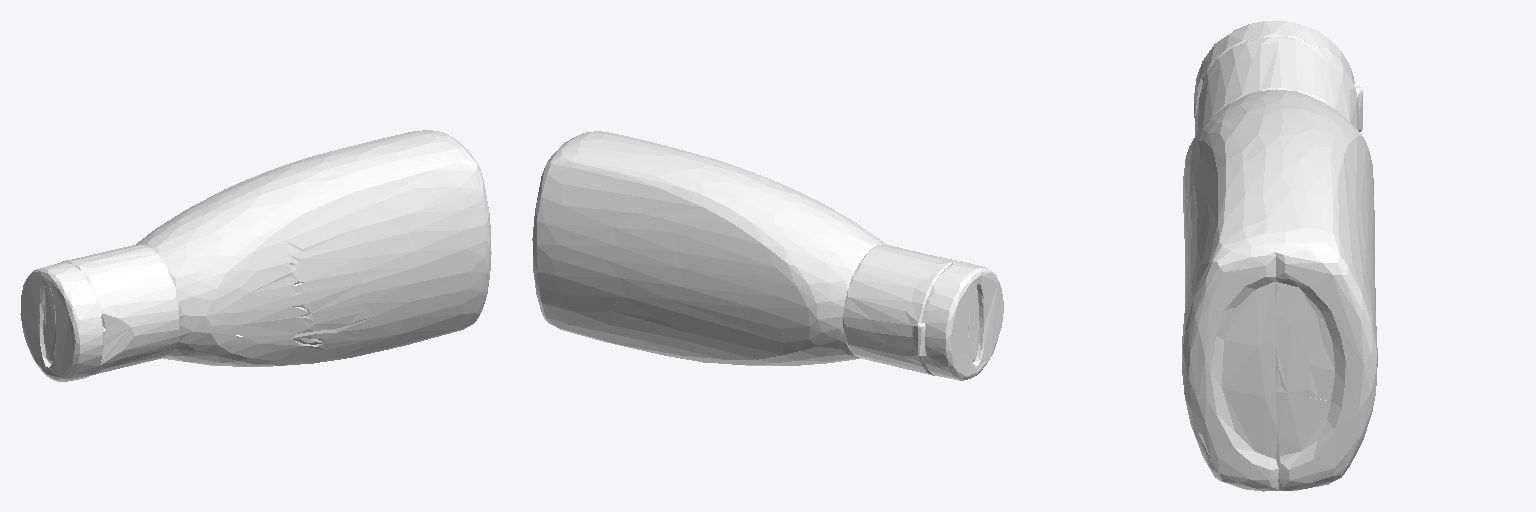
robot.urdf — myfirst:
<?xml version="1.0"?>
 <robot name="myfirst">
   <material name="light_green">
     <color rgba="0 1 0.498 1"/>
   </material>
   <material name="coral">
     <color rgba="1 0.498 0.3137 1"/>
   </material>
   <link name="Ketchup">
     <visual>
       <geometry>
         <!-- <box size="0.16 0.21343700408935547 0.061"/> -->
         <mesh filename="Ketchup_sim.obj" scale="1 1 1"/>
       </geometry>
       <!-- <material name="light_green"/> -->
       <material name="white">
         <color rgba="1. 1. 1. 1."/>
       </material>
       <origin xyz="0 0 0" rpy="0 0 0"/>
     </visual>
     <inertial>
       <mass value="0.5"/>
       <inertia ixx="1.0" ixy="0.0" ixz="0.0" iyy="1.0" iyz="0.0" izz="1.0"/>
     </inertial>
   </link>
   
 </robot>

--- What the picture shows (computed from the rendered views, not written in the file) ---
3 views of the same robot in one strip: view 1: azimuth 30°, elevation 25°; view 2: azimuth 150°, elevation 25°; view 3: azimuth 270°, elevation 25° (orthographic).
Model myfirst with 1 links and 0 joints (none), rooted at Ketchup, posed all joints at 0.
Links seen in each view (by area): view 1: Ketchup; view 2: Ketchup; view 3: Ketchup.
Boxes of the visible links, <box> form: Ketchup: <box>20,130,491,381</box>; Ketchup: <box>532,131,1003,380</box>; Ketchup: <box>1182,21,1377,491</box>.
Bounding box of the posed robot: 0.1486 × 0.0434 × 0.0645 m (x, y, z).
Meshes: 1 distinct files referenced, 1 mesh visuals loaded (1 OBJ).